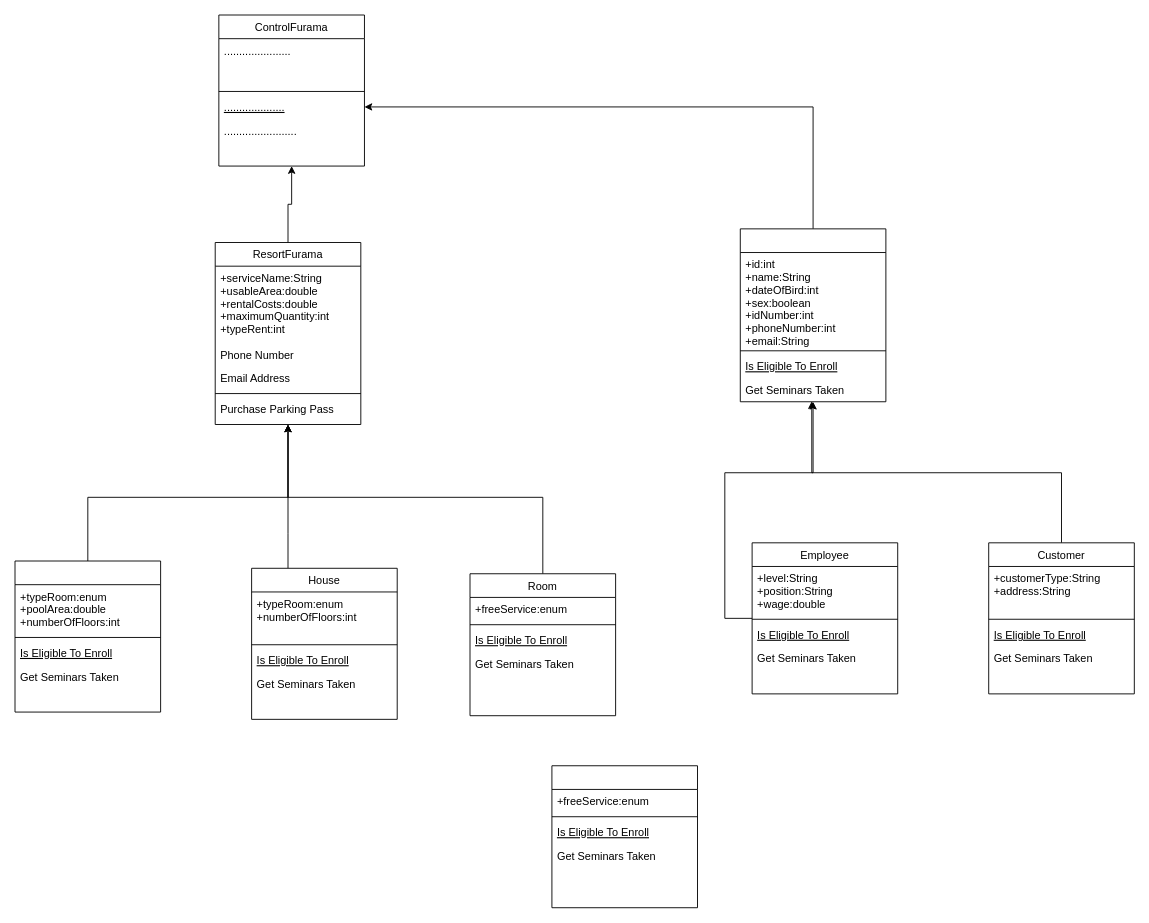
This 1149x923 diagram has some shape labels left out. The shapes that lost their labels are listed below. From the top down, each one's box as (x1, y1, x2, y2) in pixels, then its label:
(739, 228, 886, 402): Manager
(14, 560, 161, 712): Villa
(551, 765, 698, 908): Booking
